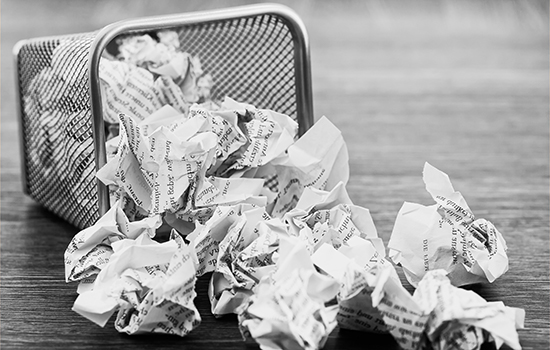paper: (35, 206, 263, 350), (369, 134, 532, 303), (66, 14, 287, 138), (227, 99, 408, 248), (224, 100, 422, 234), (67, 97, 229, 216), (199, 255, 384, 350), (350, 259, 539, 350), (50, 170, 186, 296), (104, 9, 246, 107)
